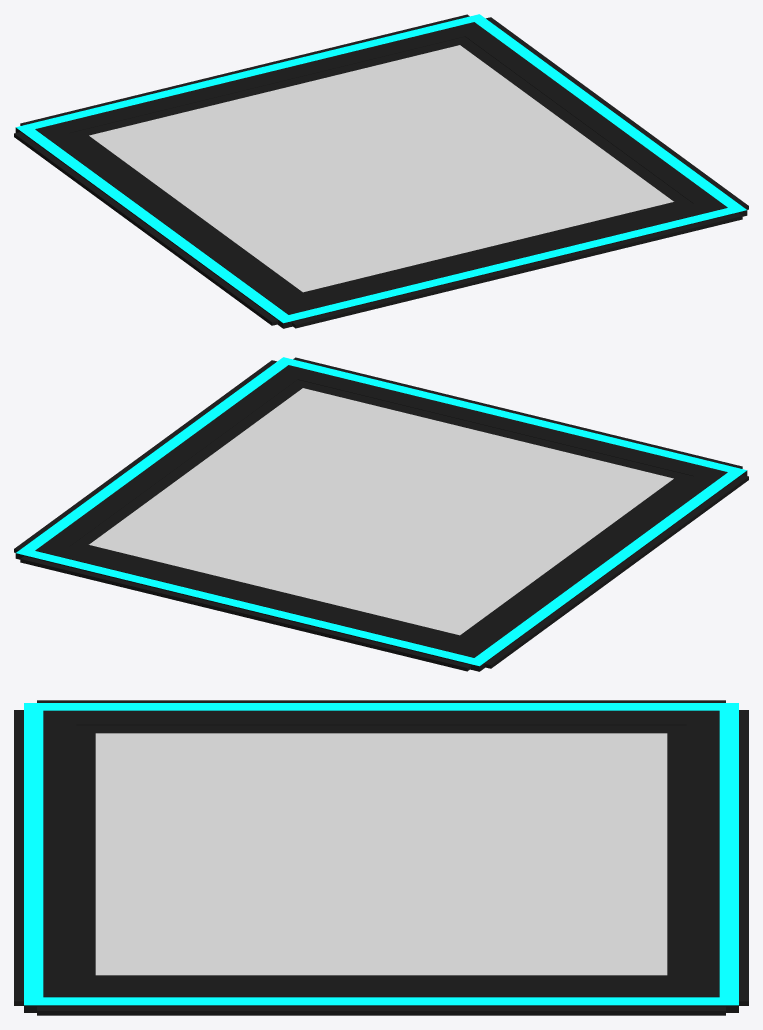
File: memmory_platform.glb
3 views of the same model, one above another, from view 1: azimuth 30°, elevation 25°; view 2: azimuth 150°, elevation 25°; view 3: azimuth 270°, elevation 25° (orthographic). The views are drawn at different scales.
Parts seen in each view (by area): view 1: WallCeiling.001, WallCeiling.005; view 2: WallCeiling.001, WallCeiling.005; view 3: WallCeiling.001, WallCeiling.005.
Part boxes in pixels (<box>): WallCeiling.001: <box>89,45,673,292</box>; WallCeiling.005: <box>14,14,748,328</box>; WallCeiling.001: <box>89,388,673,635</box>; WallCeiling.005: <box>14,357,748,671</box>; WallCeiling.001: <box>95,733,667,975</box>; WallCeiling.005: <box>14,700,748,1015</box>.
Size of the model in its own units: 2.49 by 0.0317 by 2.48.
